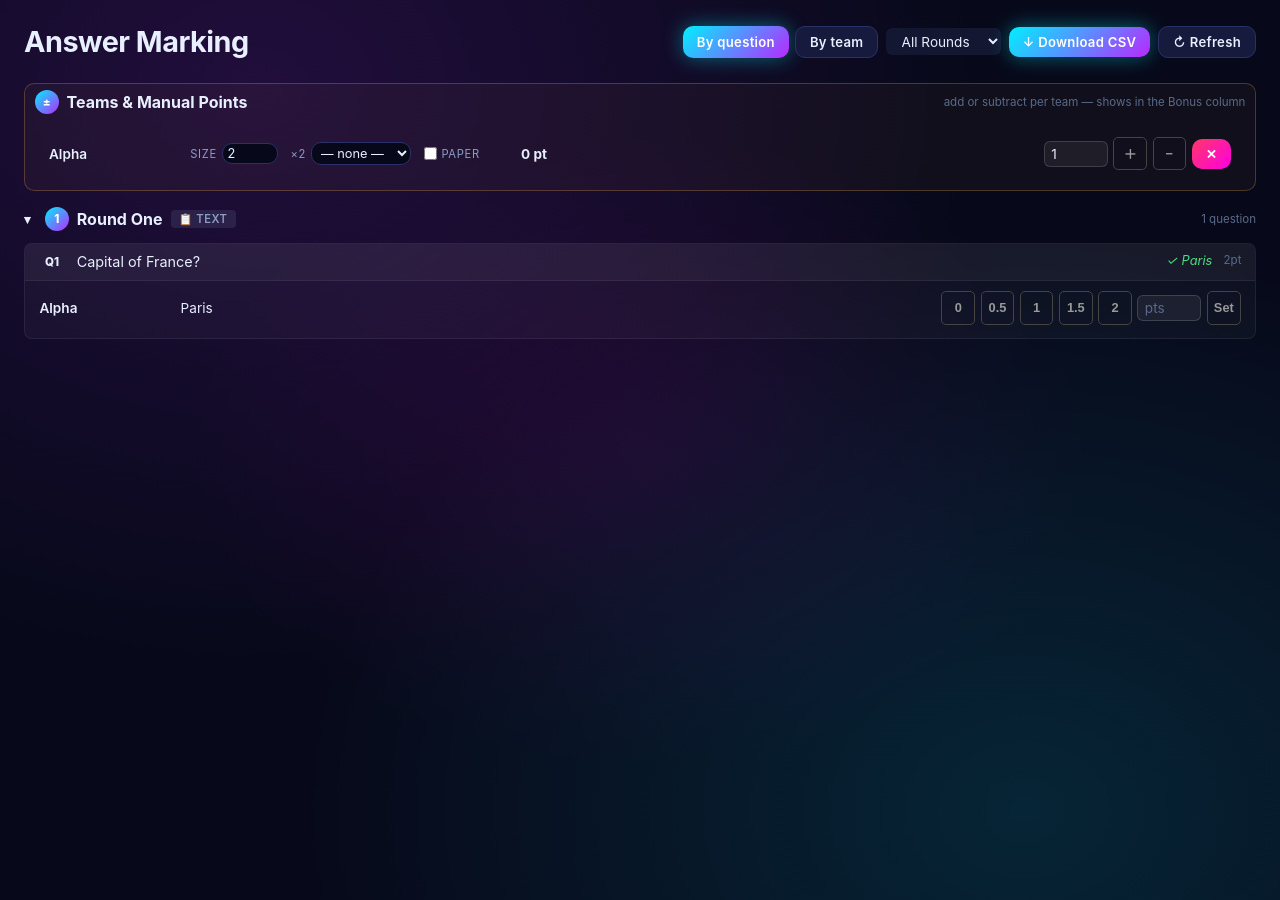
Test: AnswerMarking › collapses and expands a team card in the team view
Expected: the text "Capital of France?" is shown, [77,253,200,270]
Step 1. Click the button "By team" → (837, 42), box [795,26,878,58]
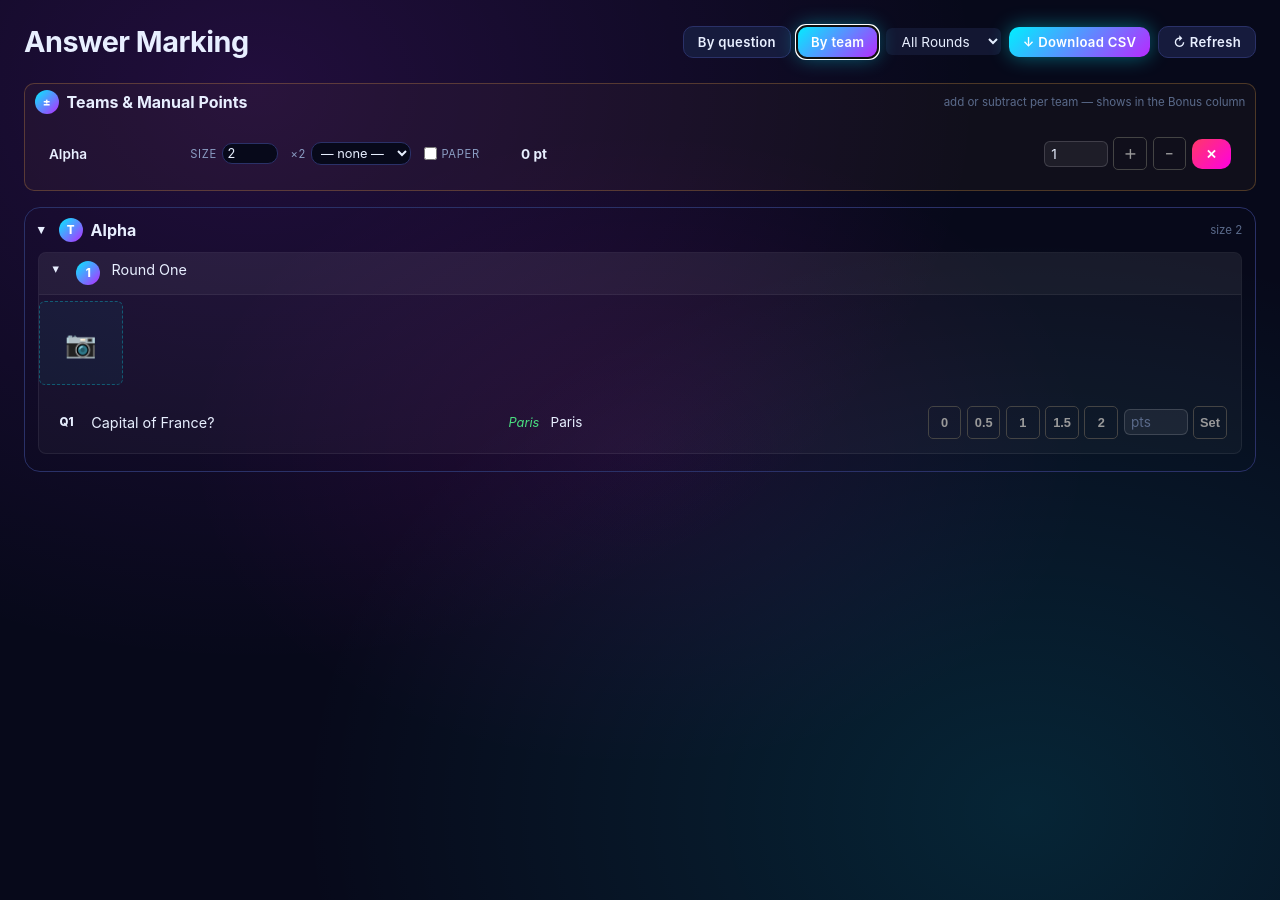
Step 2. Click the heading titled "Collapse this team" → (113, 230), box [38,218,1242,242]
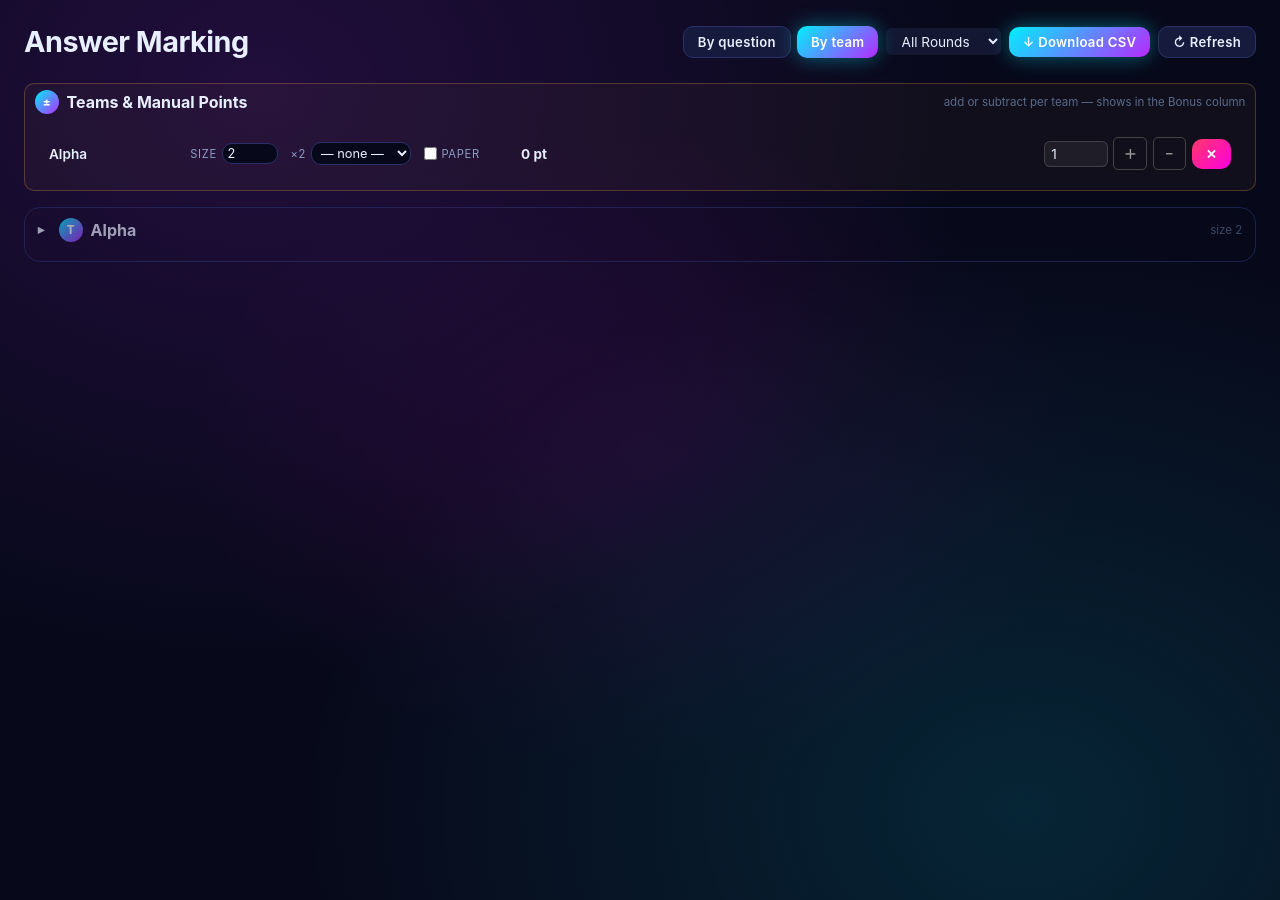
Result: the element with class "marking-team-question" is gone
Result: the element with class "marking-round-collapsed" is shown at [24,207,1256,262]
Step 3. Click the heading titled "Expand this team" → (113, 230), box [38,218,1242,242]
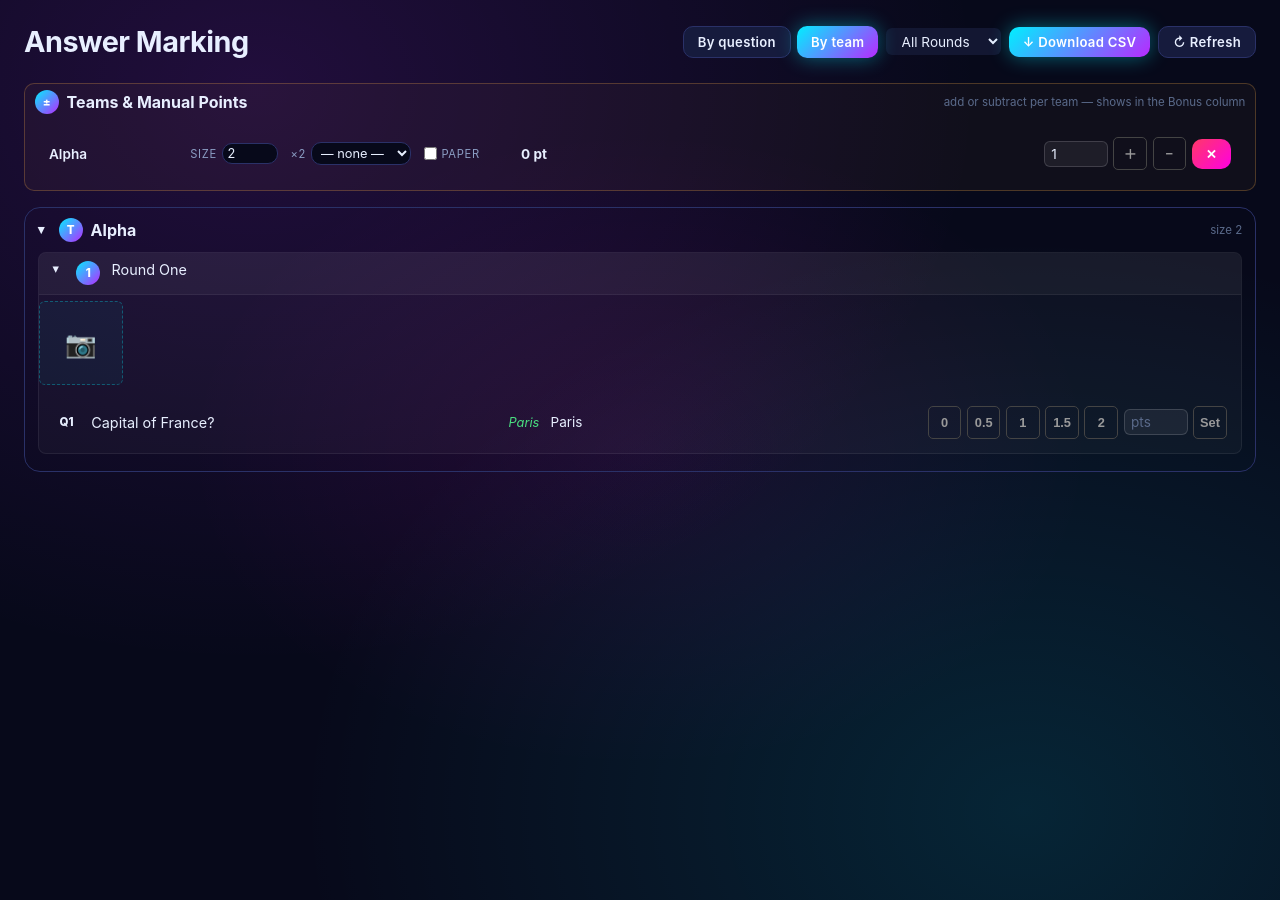
Result: the element with class "marking-team-question" is shown at [47,400,1233,445]
